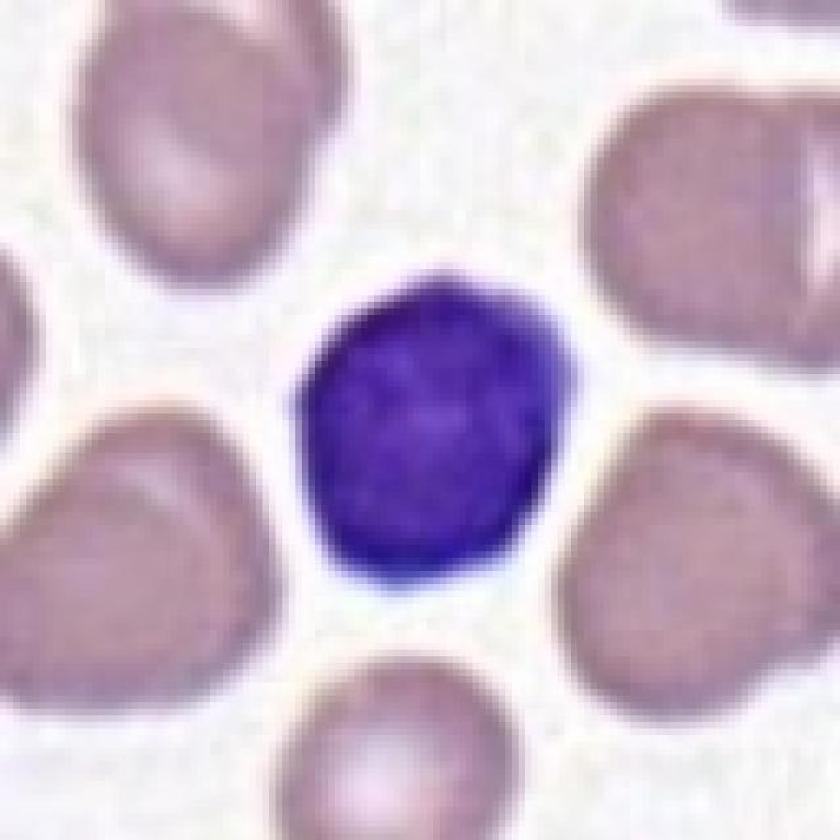lymphocyte: (293, 267, 583, 593)
